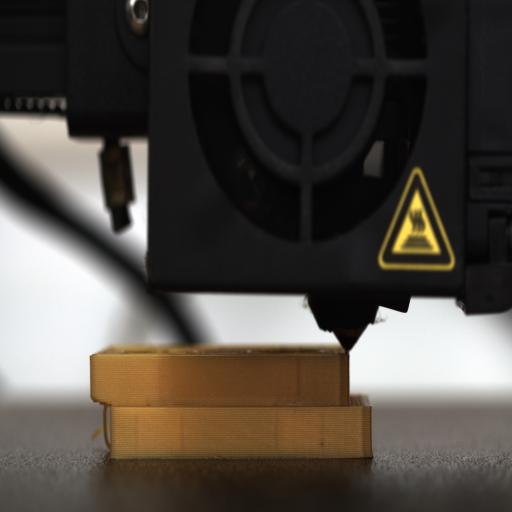layer_shift: (88, 389, 372, 422)
